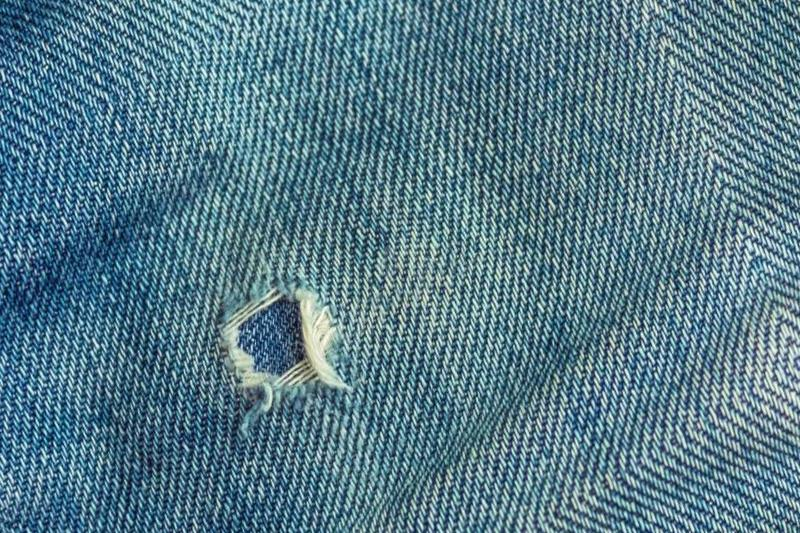hole: (209, 280, 352, 410)
